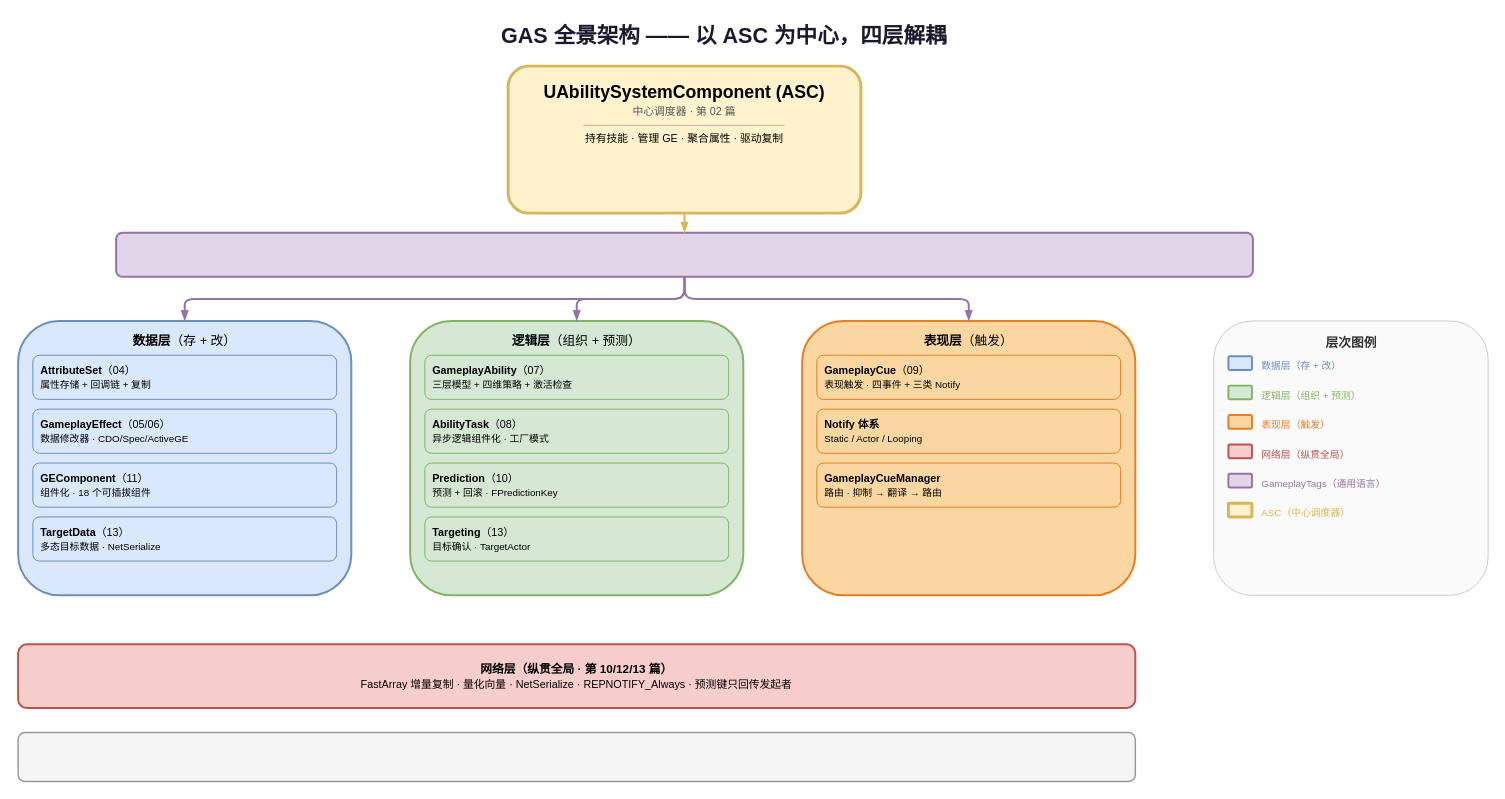
This 1505x799 diagram has some shape labels left out. Here are the shapes that lost their labels. From the top down, the centre of each, then its label:
(x=684, y=254): GameplayTags（通用语言 · 第 03 篇） — 层级化 FName 标签，贯穿所有子系统
(x=576, y=756): 调试（第 14 篇） — GameplayDebugger · HUD 命令 · 性能剖析
